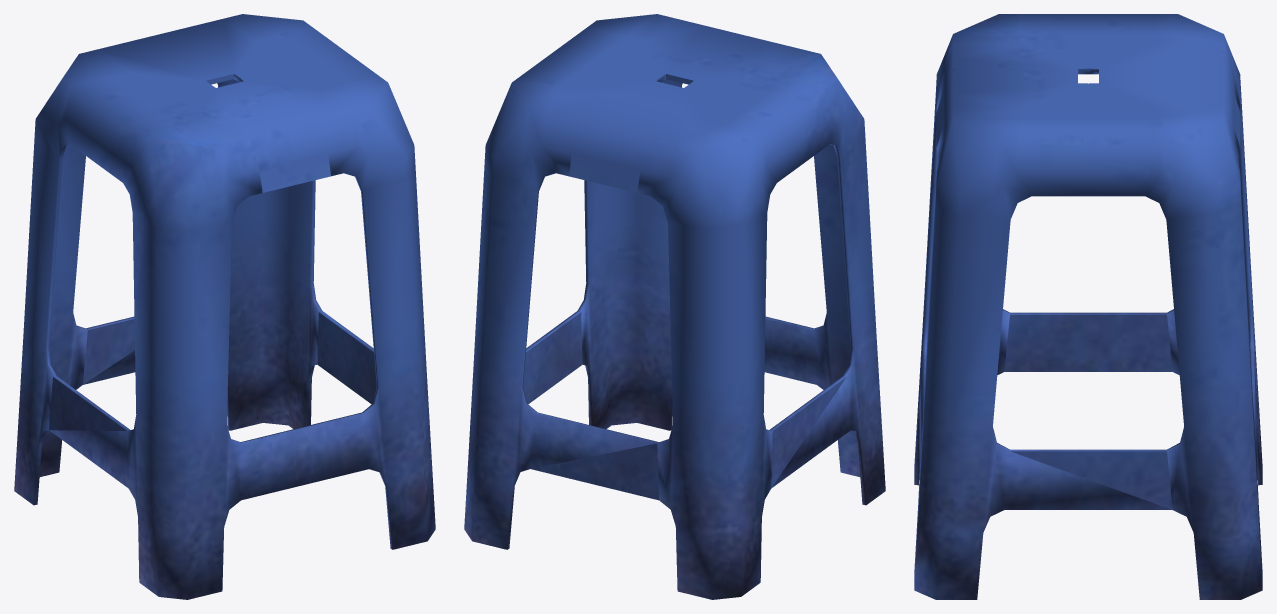
The model's file is plastic_chair_red.glb.
The picture shows the model from 3 angles, left to right: view 1: azimuth 30°, elevation 25°; view 2: azimuth 150°, elevation 25°; view 3: azimuth 270°, elevation 25°; orthographic projection. The views are drawn at different scales.
Parts seen in each view (by area): view 1: plastic_chair_red; view 2: plastic_chair_red; view 3: plastic_chair_red.
Part boxes in pixels (left/top/right/bottom): plastic_chair_red: left=14, top=14, right=435, bottom=599; plastic_chair_red: left=464, top=14, right=885, bottom=599; plastic_chair_red: left=914, top=14, right=1262, bottom=599.
Bounding box in the file's own units: 0.5735 × 0.85 × 0.5923.
1 material, 1 textured.
